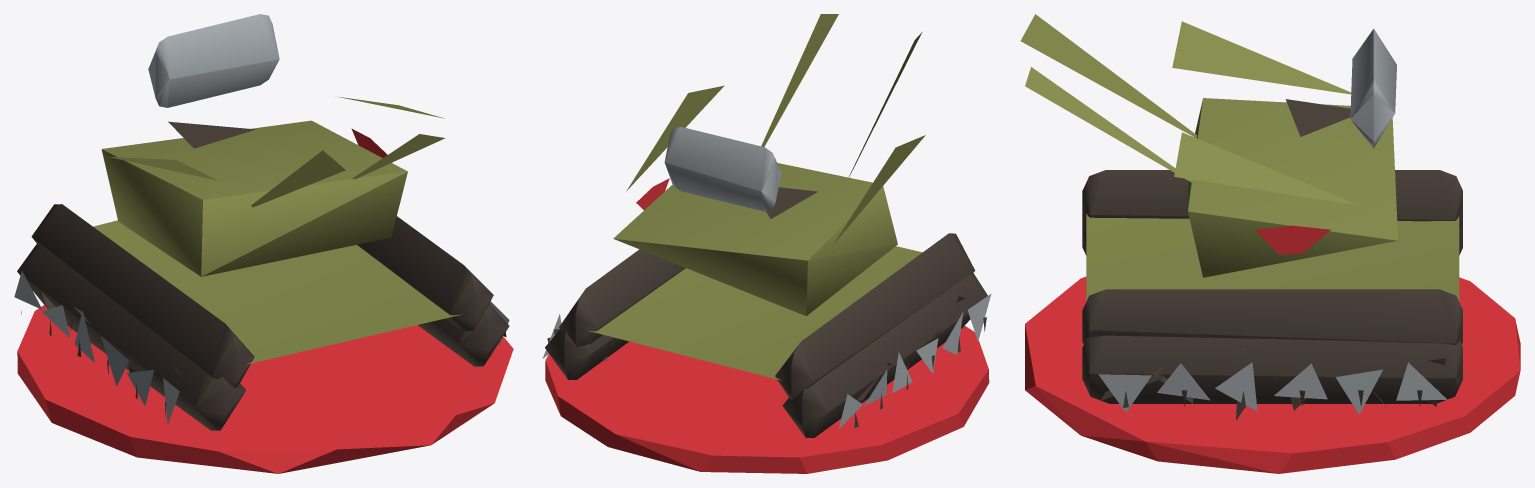
The model's file is soviet_union_anti_aircraft_lod1.glb.
The picture shows the model from 3 angles, left to right: view 1: azimuth 30°, elevation 25°; view 2: azimuth 150°, elevation 25°; view 3: azimuth 270°, elevation 25°; orthographic projection. The views are drawn at different scales.
Visible parts, largest first — view 1: body_hull, base_pedestal; view 2: body_hull, base_pedestal; view 3: body_hull, base_pedestal.
Boxes of the visible parts, x1=… form: body_hull: x1=14, y1=14, x2=509, y2=430; base_pedestal: x1=17, y1=305, x2=513, y2=473; body_hull: x1=542, y1=14, x2=991, y2=437; base_pedestal: x1=545, y1=325, x2=989, y2=473; body_hull: x1=1020, y1=14, x2=1462, y2=420; base_pedestal: x1=1025, y1=276, x2=1520, y2=473.
Size of the model in its own units: 0.7857 by 0.5542 by 0.7739.
